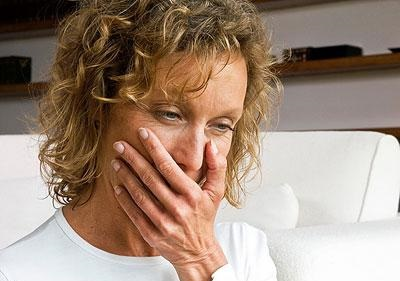face: (114, 52, 244, 237)
